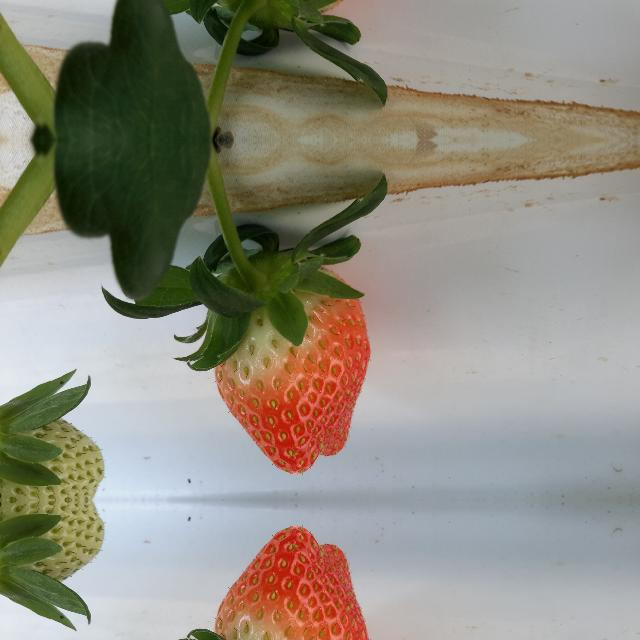Health_100: (214, 265, 372, 475), (214, 525, 372, 640)
Health_25: (0, 401, 106, 499), (0, 501, 106, 599)
